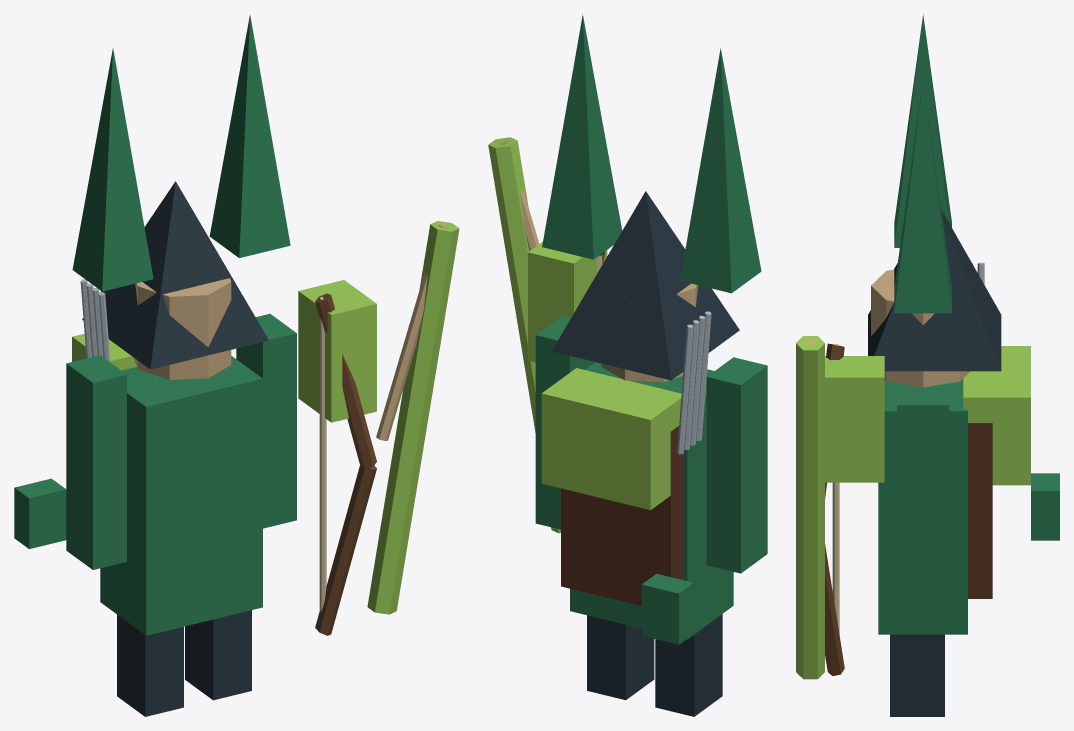
The model's file is archer.obj.
3 renders of one model, left to right at view 1: azimuth 30°, elevation 25°; view 2: azimuth 150°, elevation 25°; view 3: azimuth 270°, elevation 25°, orthographic. The views are drawn at different scales.
Parts seen in each view (by area): view 1: ranged; view 2: ranged; view 3: ranged.
Part boxes in pixels (<box>): ranged: <box>14,14,459,716</box>; ranged: <box>488,14,767,716</box>; ranged: <box>796,14,1059,716</box>.
Size of the model in its own units: 1.12 by 2.21 by 0.82.
